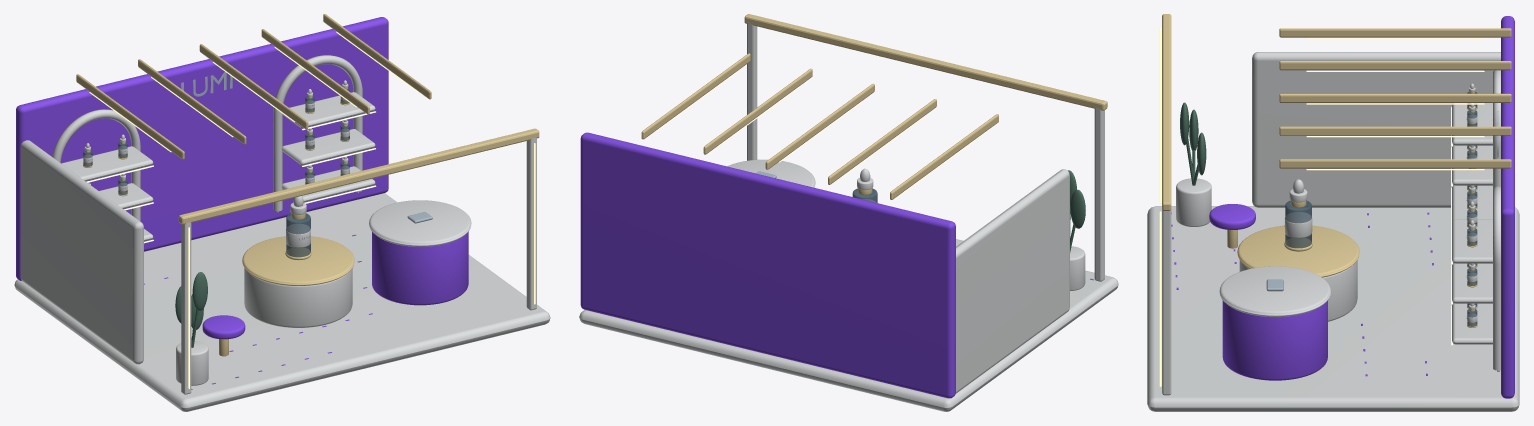
The model's file is store-lumi.glb.
3 renders of one model, left to right at view 1: azimuth 30°, elevation 25°; view 2: azimuth 150°, elevation 25°; view 3: azimuth 270°, elevation 25°, orthographic. The views are drawn at different scales.
Parts seen in each view (by area): view 1: lumi_back_wall, lumi_terrazzo_base, lumi_side_wall, lumi_curved_counter, lumi_hero_podium, lumi_premium_entry_header, lumi_podium_rim, lumi_countertop, lumi_arched_portal.001, lumi_floating_shelf.004, lumi_premium_entry_column, lumi_premium_entry_column.001 (+15 smaller); view 2: lumi_back_wall, lumi_side_wall, lumi_terrazzo_base, lumi_premium_entry_header, lumi_premium_entry_column, lumi_premium_entry_column.001, lumi_countertop, lumi_ceiling_fin.003, lumi_ceiling_fin.004, lumi_ceiling_fin.002, lumi_ceiling_fin, lumi_ceiling_fin.001 (+2 smaller); view 3: lumi_terrazzo_base, lumi_side_wall, lumi_curved_counter, lumi_back_wall, lumi_countertop, lumi_podium_rim, lumi_ceiling_fin, lumi_ceiling_fin.001, lumi_ceiling_fin.002, lumi_ceiling_fin.003, lumi_ceiling_fin.004, lumi_premium_entry_header (+20 smaller).
Part boxes in pixels (<box>): lumi_back_wall: <box>16,17,388,280</box>; lumi_terrazzo_base: <box>14,193,550,411</box>; lumi_side_wall: <box>20,140,143,364</box>; lumi_curved_counter: <box>372,232,468,305</box>; lumi_hero_podium: <box>244,268,352,327</box>; lumi_premium_entry_header: <box>178,128,539,224</box>; lumi_podium_rim: <box>242,236,354,285</box>; lumi_countertop: <box>369,200,471,246</box>; lumi_arched_portal.001: <box>273,55,362,211</box>; lumi_floating_shelf.004: <box>282,129,375,165</box>; lumi_premium_entry_column: <box>181,222,191,394</box>; lumi_premium_entry_column.001: <box>526,138,536,310</box>; lumi_back_wall: <box>580,132,955,398</box>; lumi_side_wall: <box>955,169,1069,393</box>; lumi_terrazzo_base: <box>579,239,1118,411</box>; lumi_premium_entry_header: <box>744,14,1107,110</box>; lumi_premium_entry_column: <box>1094,107,1104,281</box>; lumi_premium_entry_column.001: <box>747,22,757,160</box>; lumi_countertop: <box>727,159,815,187</box>; lumi_ceiling_fin.003: <box>703,68,812,154</box>; lumi_ceiling_fin.004: <box>641,53,750,139</box>; lumi_ceiling_fin.002: <box>765,83,874,169</box>; lumi_ceiling_fin: <box>890,114,998,199</box>; lumi_ceiling_fin.001: <box>828,99,936,184</box>; lumi_terrazzo_base: <box>1147,206,1519,411</box>; lumi_side_wall: <box>1252,52,1500,207</box>; lumi_curved_counter: <box>1222,300,1327,380</box>; lumi_back_wall: <box>1501,16,1514,398</box>; lumi_countertop: <box>1219,266,1330,316</box>; lumi_podium_rim: <box>1237,225,1359,277</box>; lumi_ceiling_fin: <box>1279,28,1511,37</box>; lumi_ceiling_fin.001: <box>1279,61,1511,70</box>; lumi_ceiling_fin.002: <box>1279,93,1511,102</box>; lumi_ceiling_fin.003: <box>1279,126,1511,135</box>; lumi_ceiling_fin.004: <box>1279,159,1511,168</box>; lumi_premium_entry_header: <box>1162,14,1171,210</box>.
Bounding box in the file's own units: 6 × 3.17 × 4.8.
